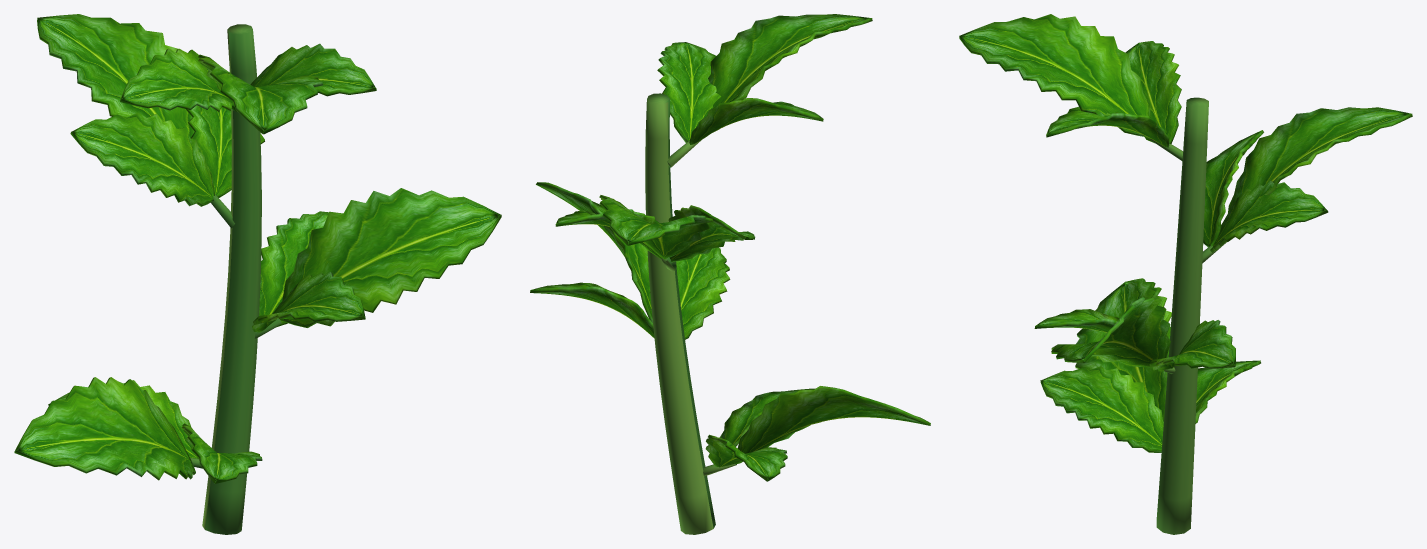
The model's file is NP_Dahlia_Young.fbx.
The picture shows the model from 3 angles, left to right: view 1: azimuth 30°, elevation 25°; view 2: azimuth 150°, elevation 25°; view 3: azimuth 270°, elevation 25°; orthographic projection. The views are drawn at different scales.
Parts seen in each view (by area): view 1: NP_Dahlia_Young; view 2: NP_Dahlia_Young; view 3: NP_Dahlia_Young.
Boxes of the visible parts, left/top/right/bottom form: NP_Dahlia_Young: left=14, top=14, right=501, bottom=534; NP_Dahlia_Young: left=530, top=14, right=930, bottom=534; NP_Dahlia_Young: left=959, top=14, right=1412, bottom=534.
Bounding box in the file's own units: 24.2 × 26.32 × 22.58.
